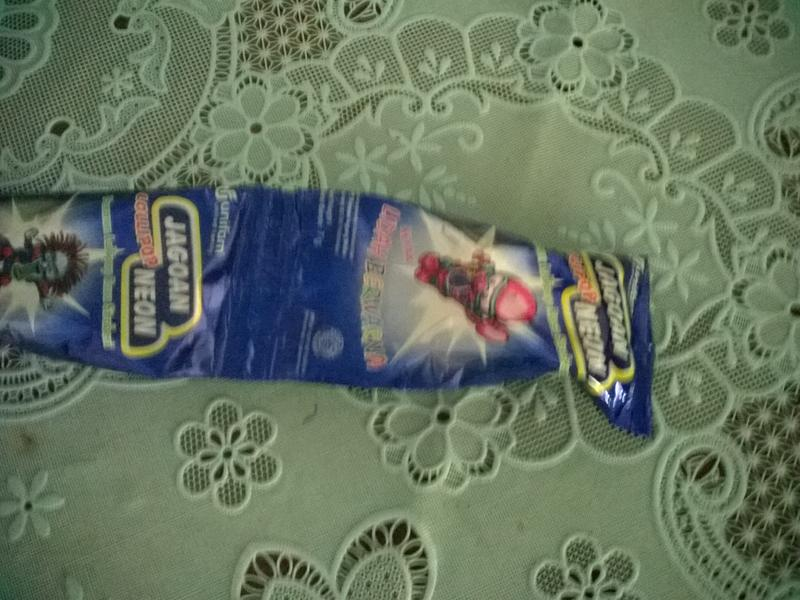jagoan neon: (251, 167, 653, 437), (3, 185, 282, 379)
